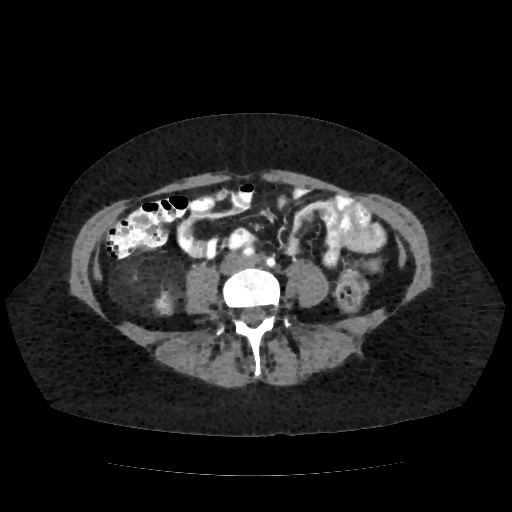Lesion: (103, 257, 189, 321)
